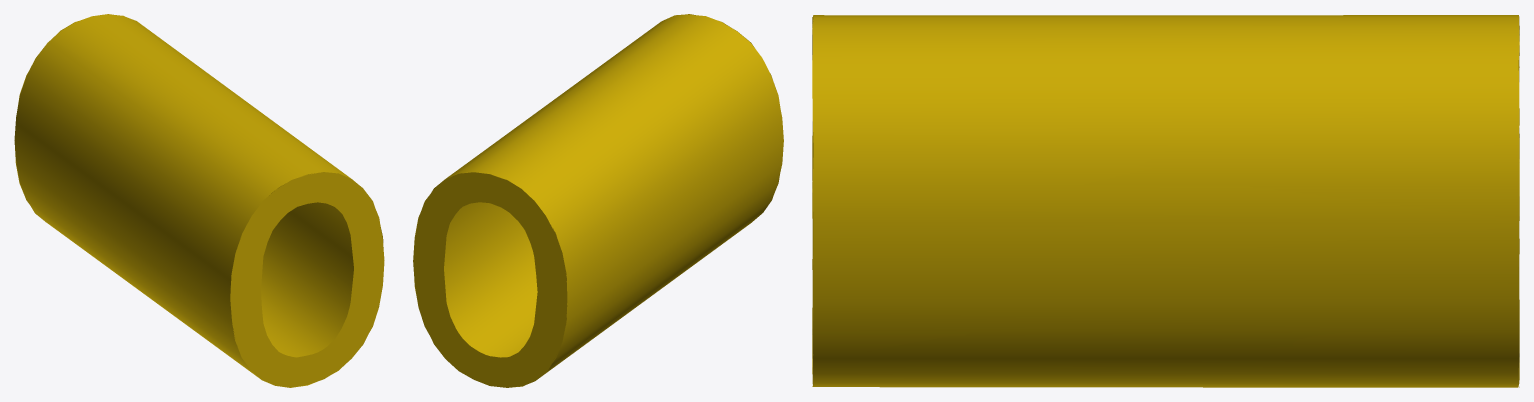
The model's file is original-6.obj.
3 views of the same model, side by side, from view 1: azimuth 30°, elevation 25°; view 2: azimuth 150°, elevation 25°; view 3: azimuth 270°, elevation 25° (orthographic). The views are drawn at different scales.
Parts seen in each view (by area): view 1: #ID37; view 2: #ID37; view 3: #ID37.
Boxes of the visible parts, x1,y1,x2,y2 form: #ID37: [14, 14, 384, 387]; #ID37: [413, 14, 783, 387]; #ID37: [812, 15, 1519, 387].
Size of the model in its own units: 0.032 by 0.0418 by 0.0774.
